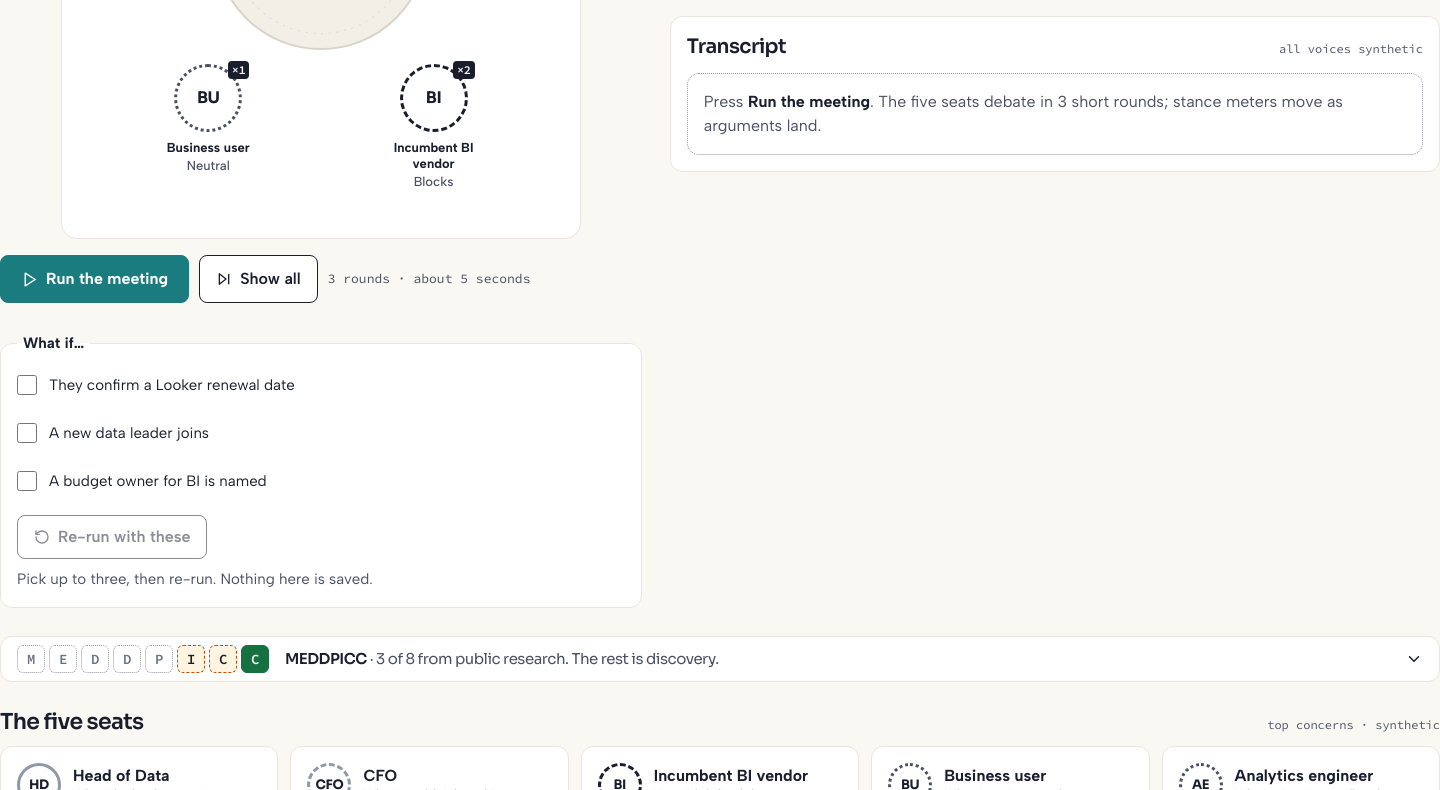
Test case: committee view › re-runs with what-ifs, sends them, and shows the change against the saved meeting
(page scrolled)
Click the checkbox labelled "They confirm a Looker renewal date". click: (27, 385)
box: [17, 375, 37, 395]
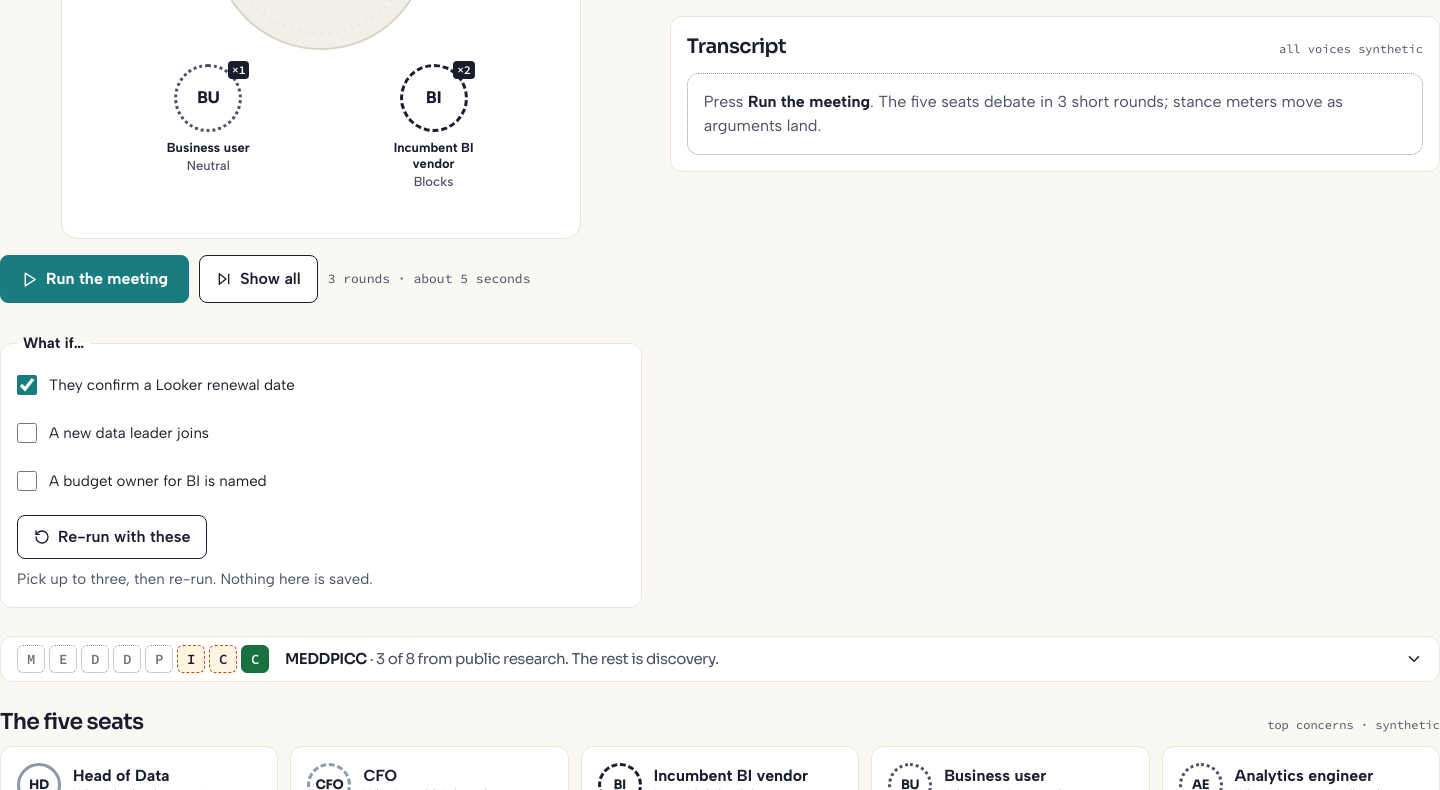
Click the button "Re-run with these". click: (112, 537)
box: [17, 515, 207, 559]
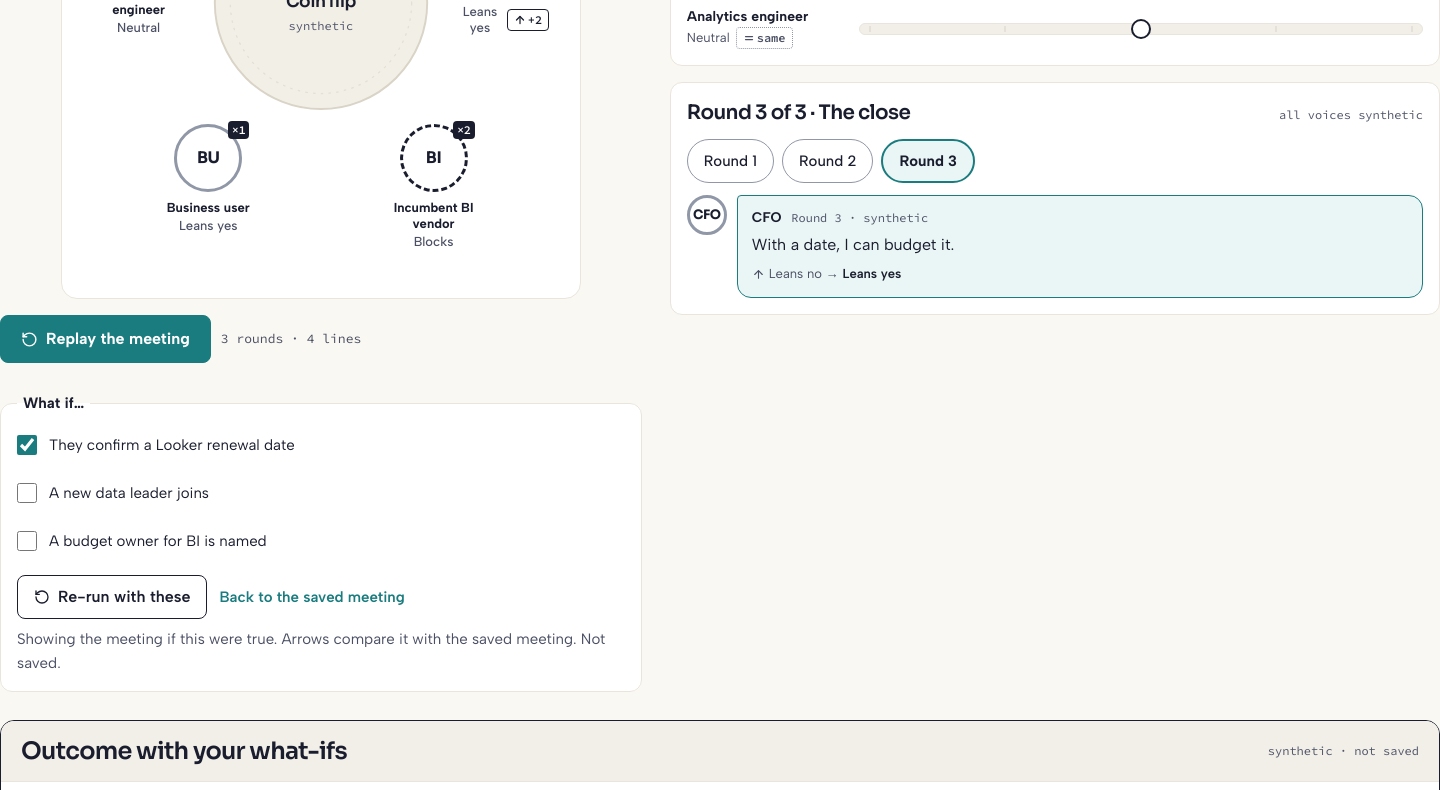
Expected: the text "+2" is shown, [507, 9, 549, 31]
Click the button "Back to the saved meeting". click: (312, 597)
box: [219, 575, 405, 619]
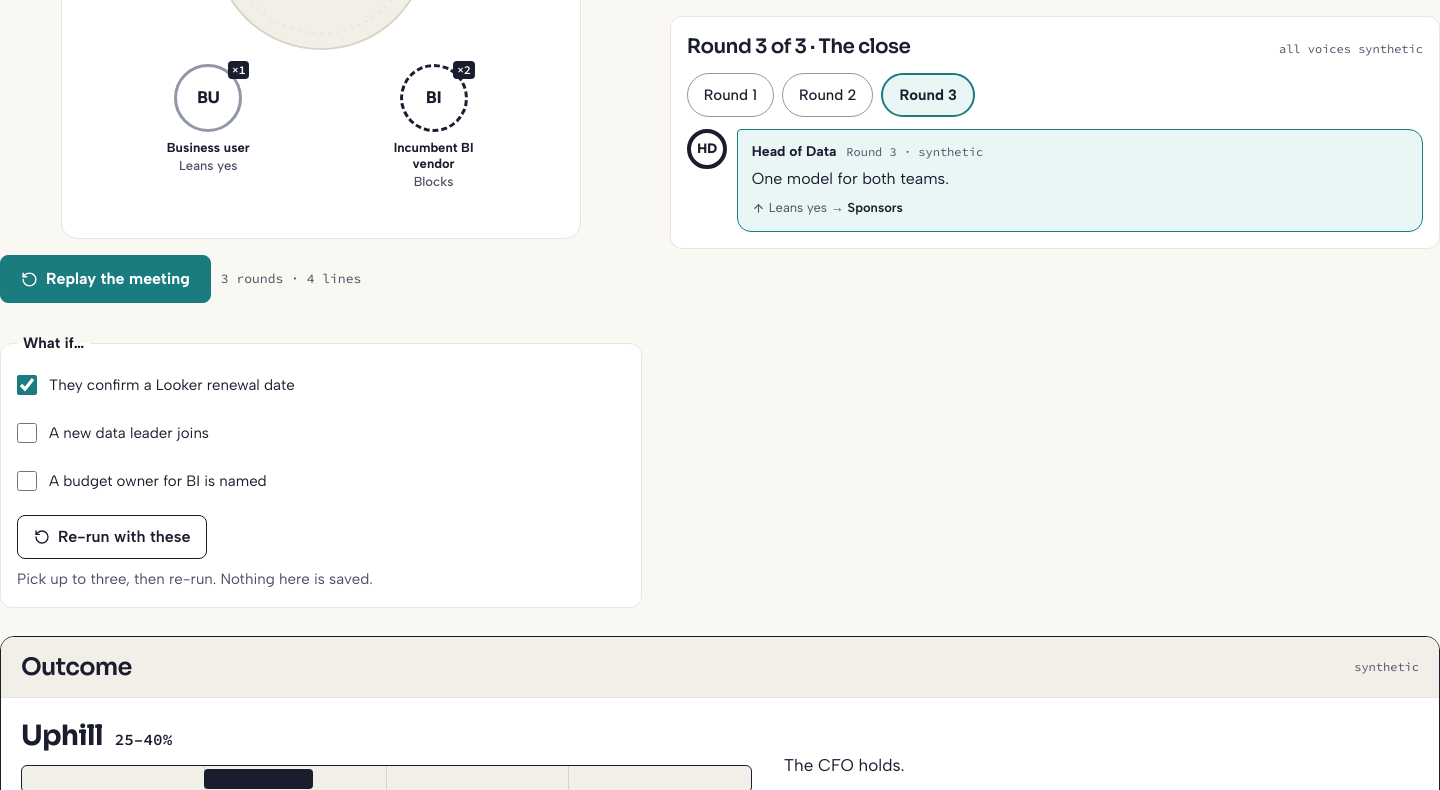
Expected: the text "Uphill" is shown, [21, 718, 103, 753]
